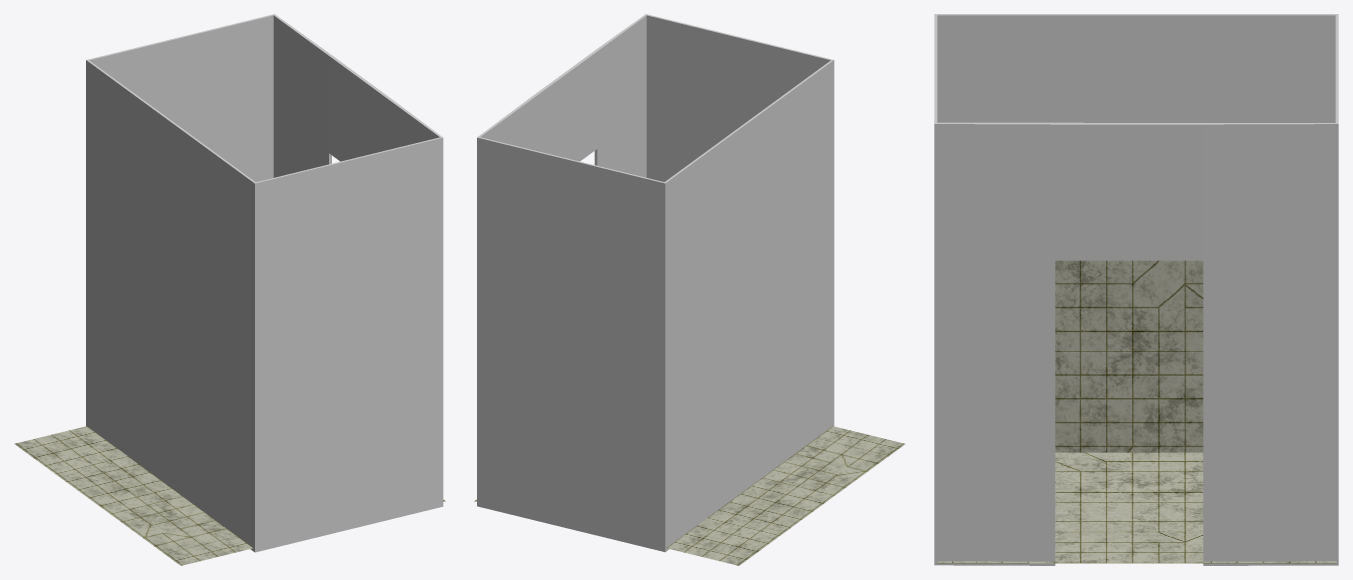
The model's file is Room_Bathroom.fbx.
3 views of the same model, side by side, from view 1: azimuth 30°, elevation 25°; view 2: azimuth 150°, elevation 25°; view 3: azimuth 270°, elevation 25° (orthographic). The views are drawn at different scales.
Visible parts, largest first — view 1: Walls.002, Plane.012; view 2: Walls.002, Plane.012; view 3: Walls.002, Walls.001, Plane.012.
Boxes of the visible parts, x1,y1,x2,y2 form: Walls.002: (86,14,443,552); Plane.012: (14,426,445,565); Walls.002: (477,14,834,552); Plane.012: (474,426,905,565); Walls.002: (934,14,1338,565); Walls.001: (1055,260,1203,452); Plane.012: (937,452,1336,563).
Bounding box in the file's own units: 314 × 418 × 347.
Materials: 2 (1 with a texture image).
